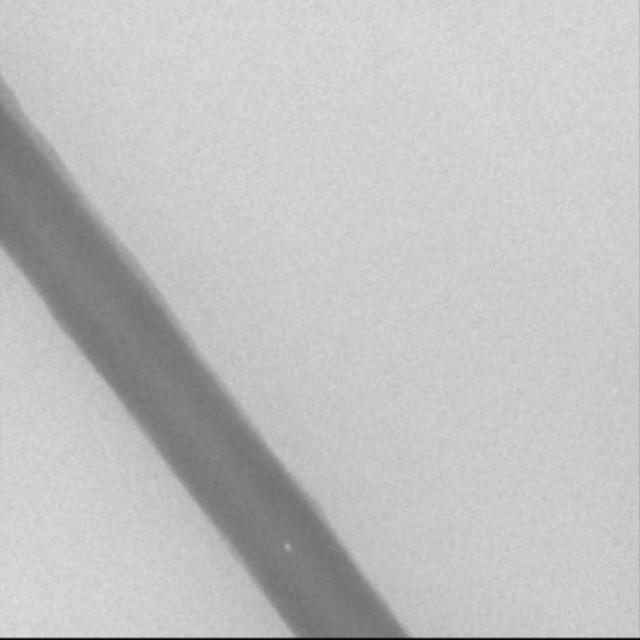air hole: (283, 541, 291, 552)
